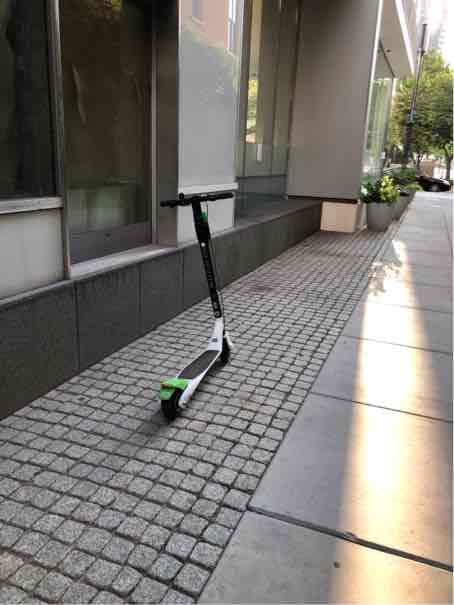scooter: (148, 191, 243, 425)
